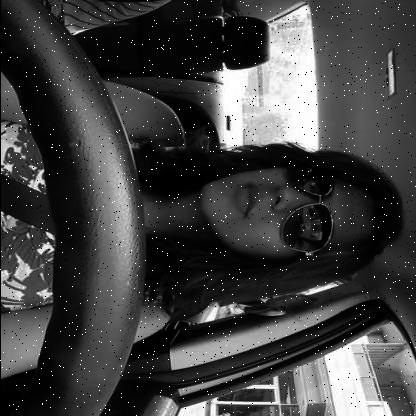seatbelt: (0, 134, 414, 316)
